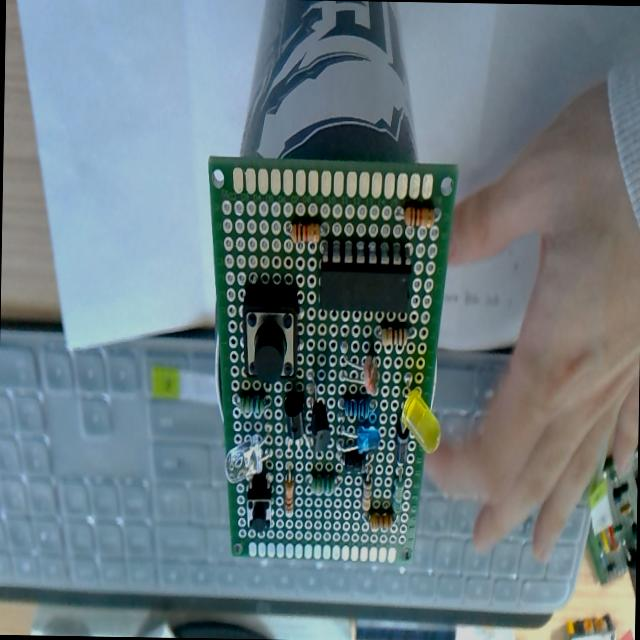IC: (318, 242, 411, 317)
cds: (336, 339, 384, 394)
diode: (394, 420, 410, 464), (344, 449, 366, 474)
led: (399, 388, 442, 455), (224, 432, 264, 484), (336, 422, 384, 454)
resistor: (342, 392, 374, 424), (403, 203, 434, 229), (238, 392, 264, 417), (292, 221, 320, 243), (365, 509, 393, 531), (310, 472, 334, 496), (392, 468, 404, 516), (381, 326, 406, 349), (284, 472, 294, 514), (362, 477, 372, 512)
switch: (242, 287, 300, 382), (247, 473, 272, 532)
transistor: (310, 401, 330, 456), (284, 393, 304, 440)
